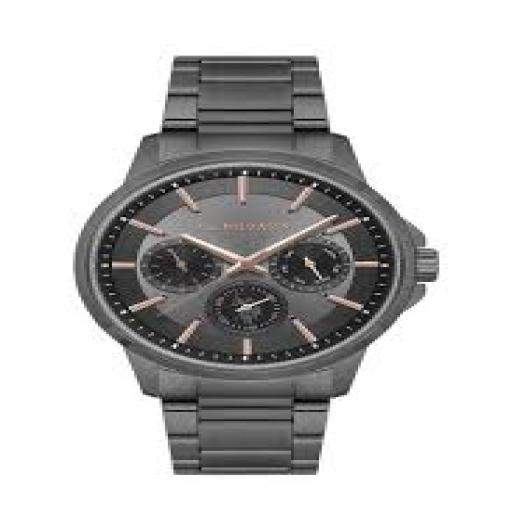KolSaati: (62, 34, 449, 488)
